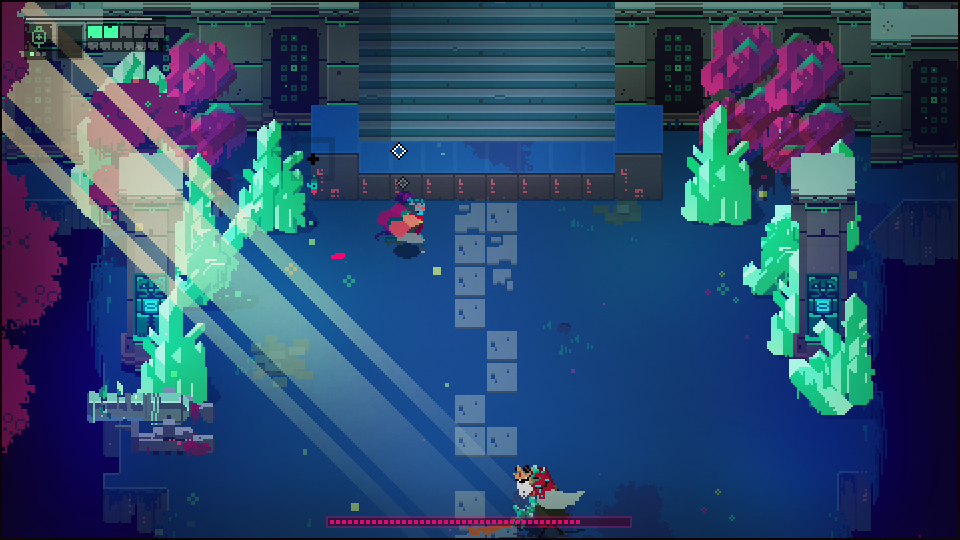hanged_man: (490, 457, 589, 540)
player: (385, 195, 429, 257)
